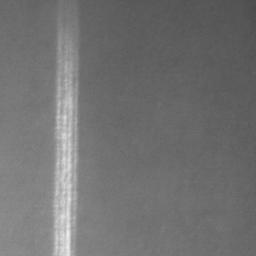Bright scratch: (52, 0, 81, 256)
